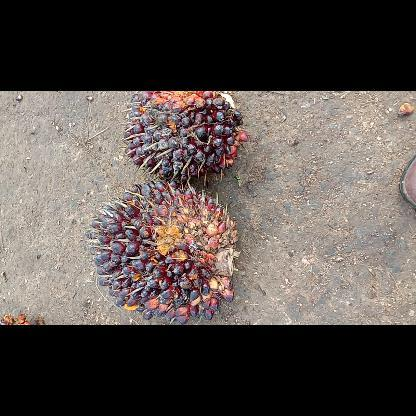Kurang masak: (82, 178, 242, 324), (116, 90, 250, 186)
